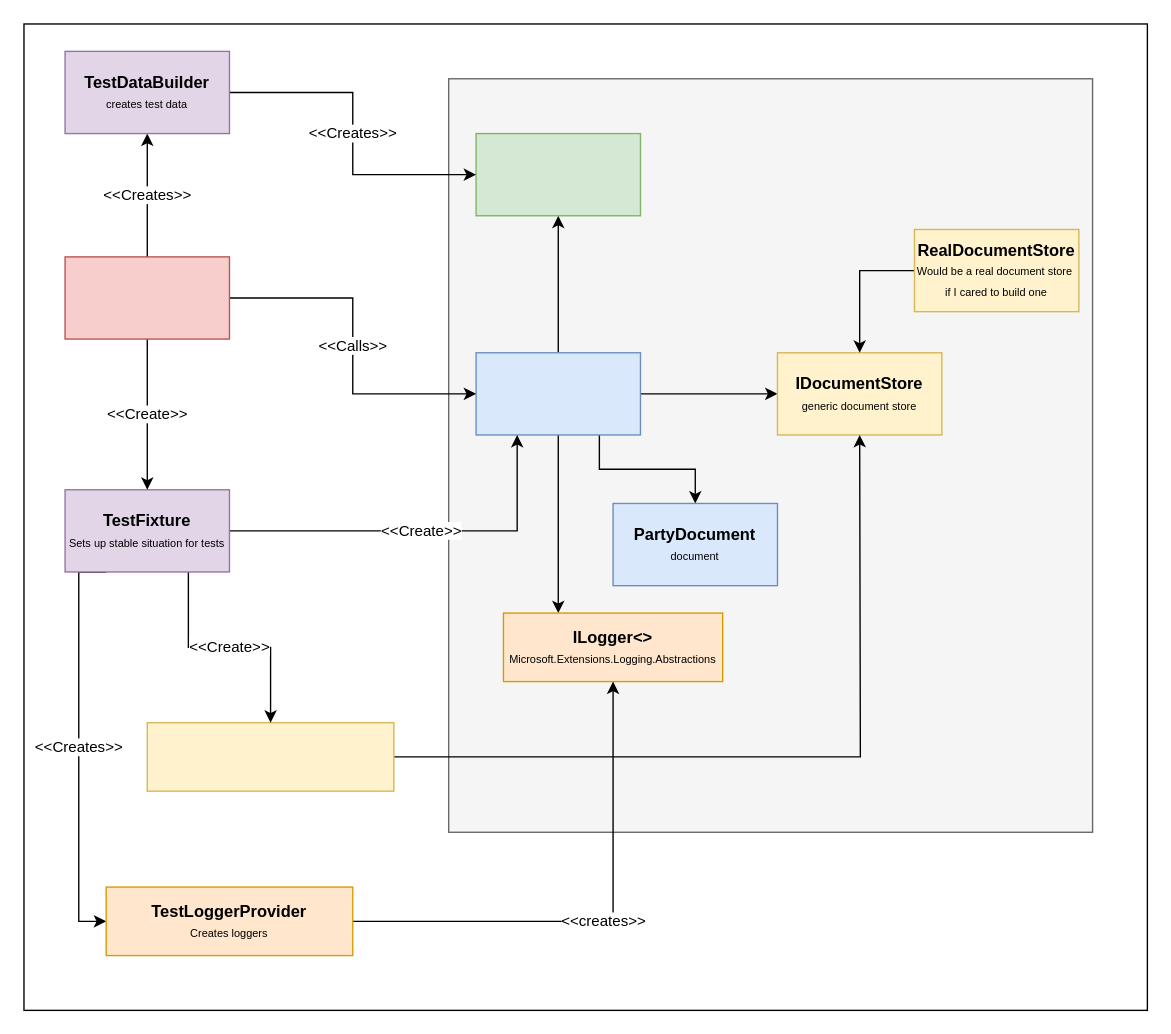
The diagram is 1171 pixels wide and 1034 high, and some of its shapes have lost their labels. The shapes that lost their labels are listed below. From the top down, each one's centre as x and y in pixels, then its label:
At point 557,174: "Party Domain entity".
At point 146,297: "PartyStoreTests Invokes methods on party store".
At point 557,393: "PartyStore responsible for storing / retrieving parties".
At point 270,756: "InMemoryDocumentStore generic document store".
